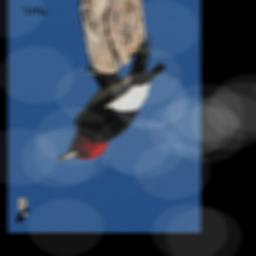Woodpecker: (52, 35, 170, 162)
